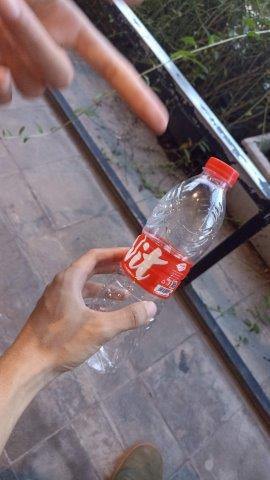botolplastik: (72, 160, 240, 405)
